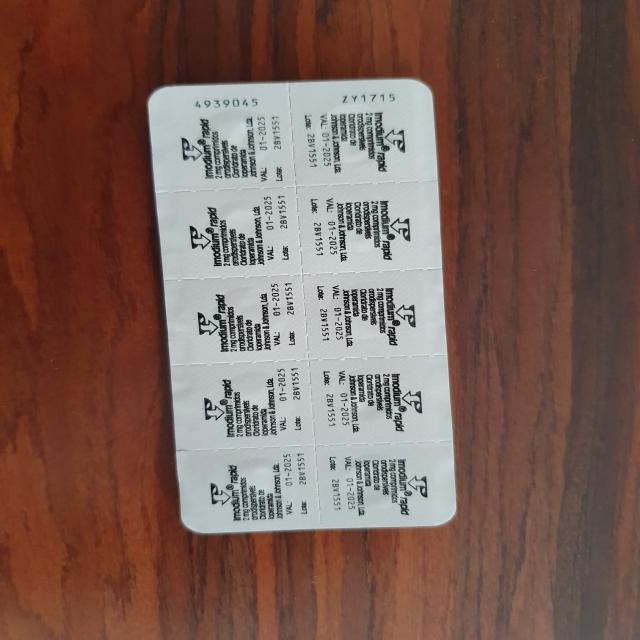Pill: (302, 97, 426, 187), (169, 106, 288, 188), (330, 370, 453, 449), (199, 368, 317, 449), (309, 192, 421, 275), (196, 457, 320, 530), (182, 194, 292, 276), (186, 286, 301, 362), (322, 286, 436, 362), (334, 452, 440, 521)
